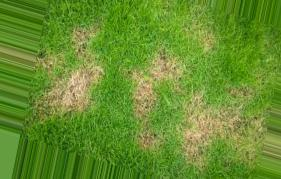patch: (123, 48, 176, 146), (191, 93, 264, 162), (45, 47, 104, 130)
